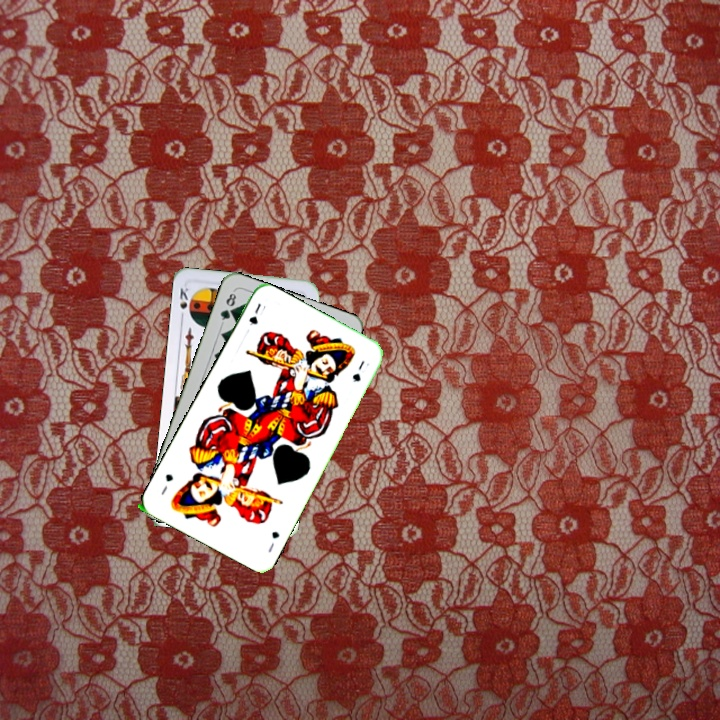G8: (216, 287, 239, 326)
GU: (244, 299, 264, 328), (264, 527, 282, 555)
SK: (175, 284, 191, 323)
